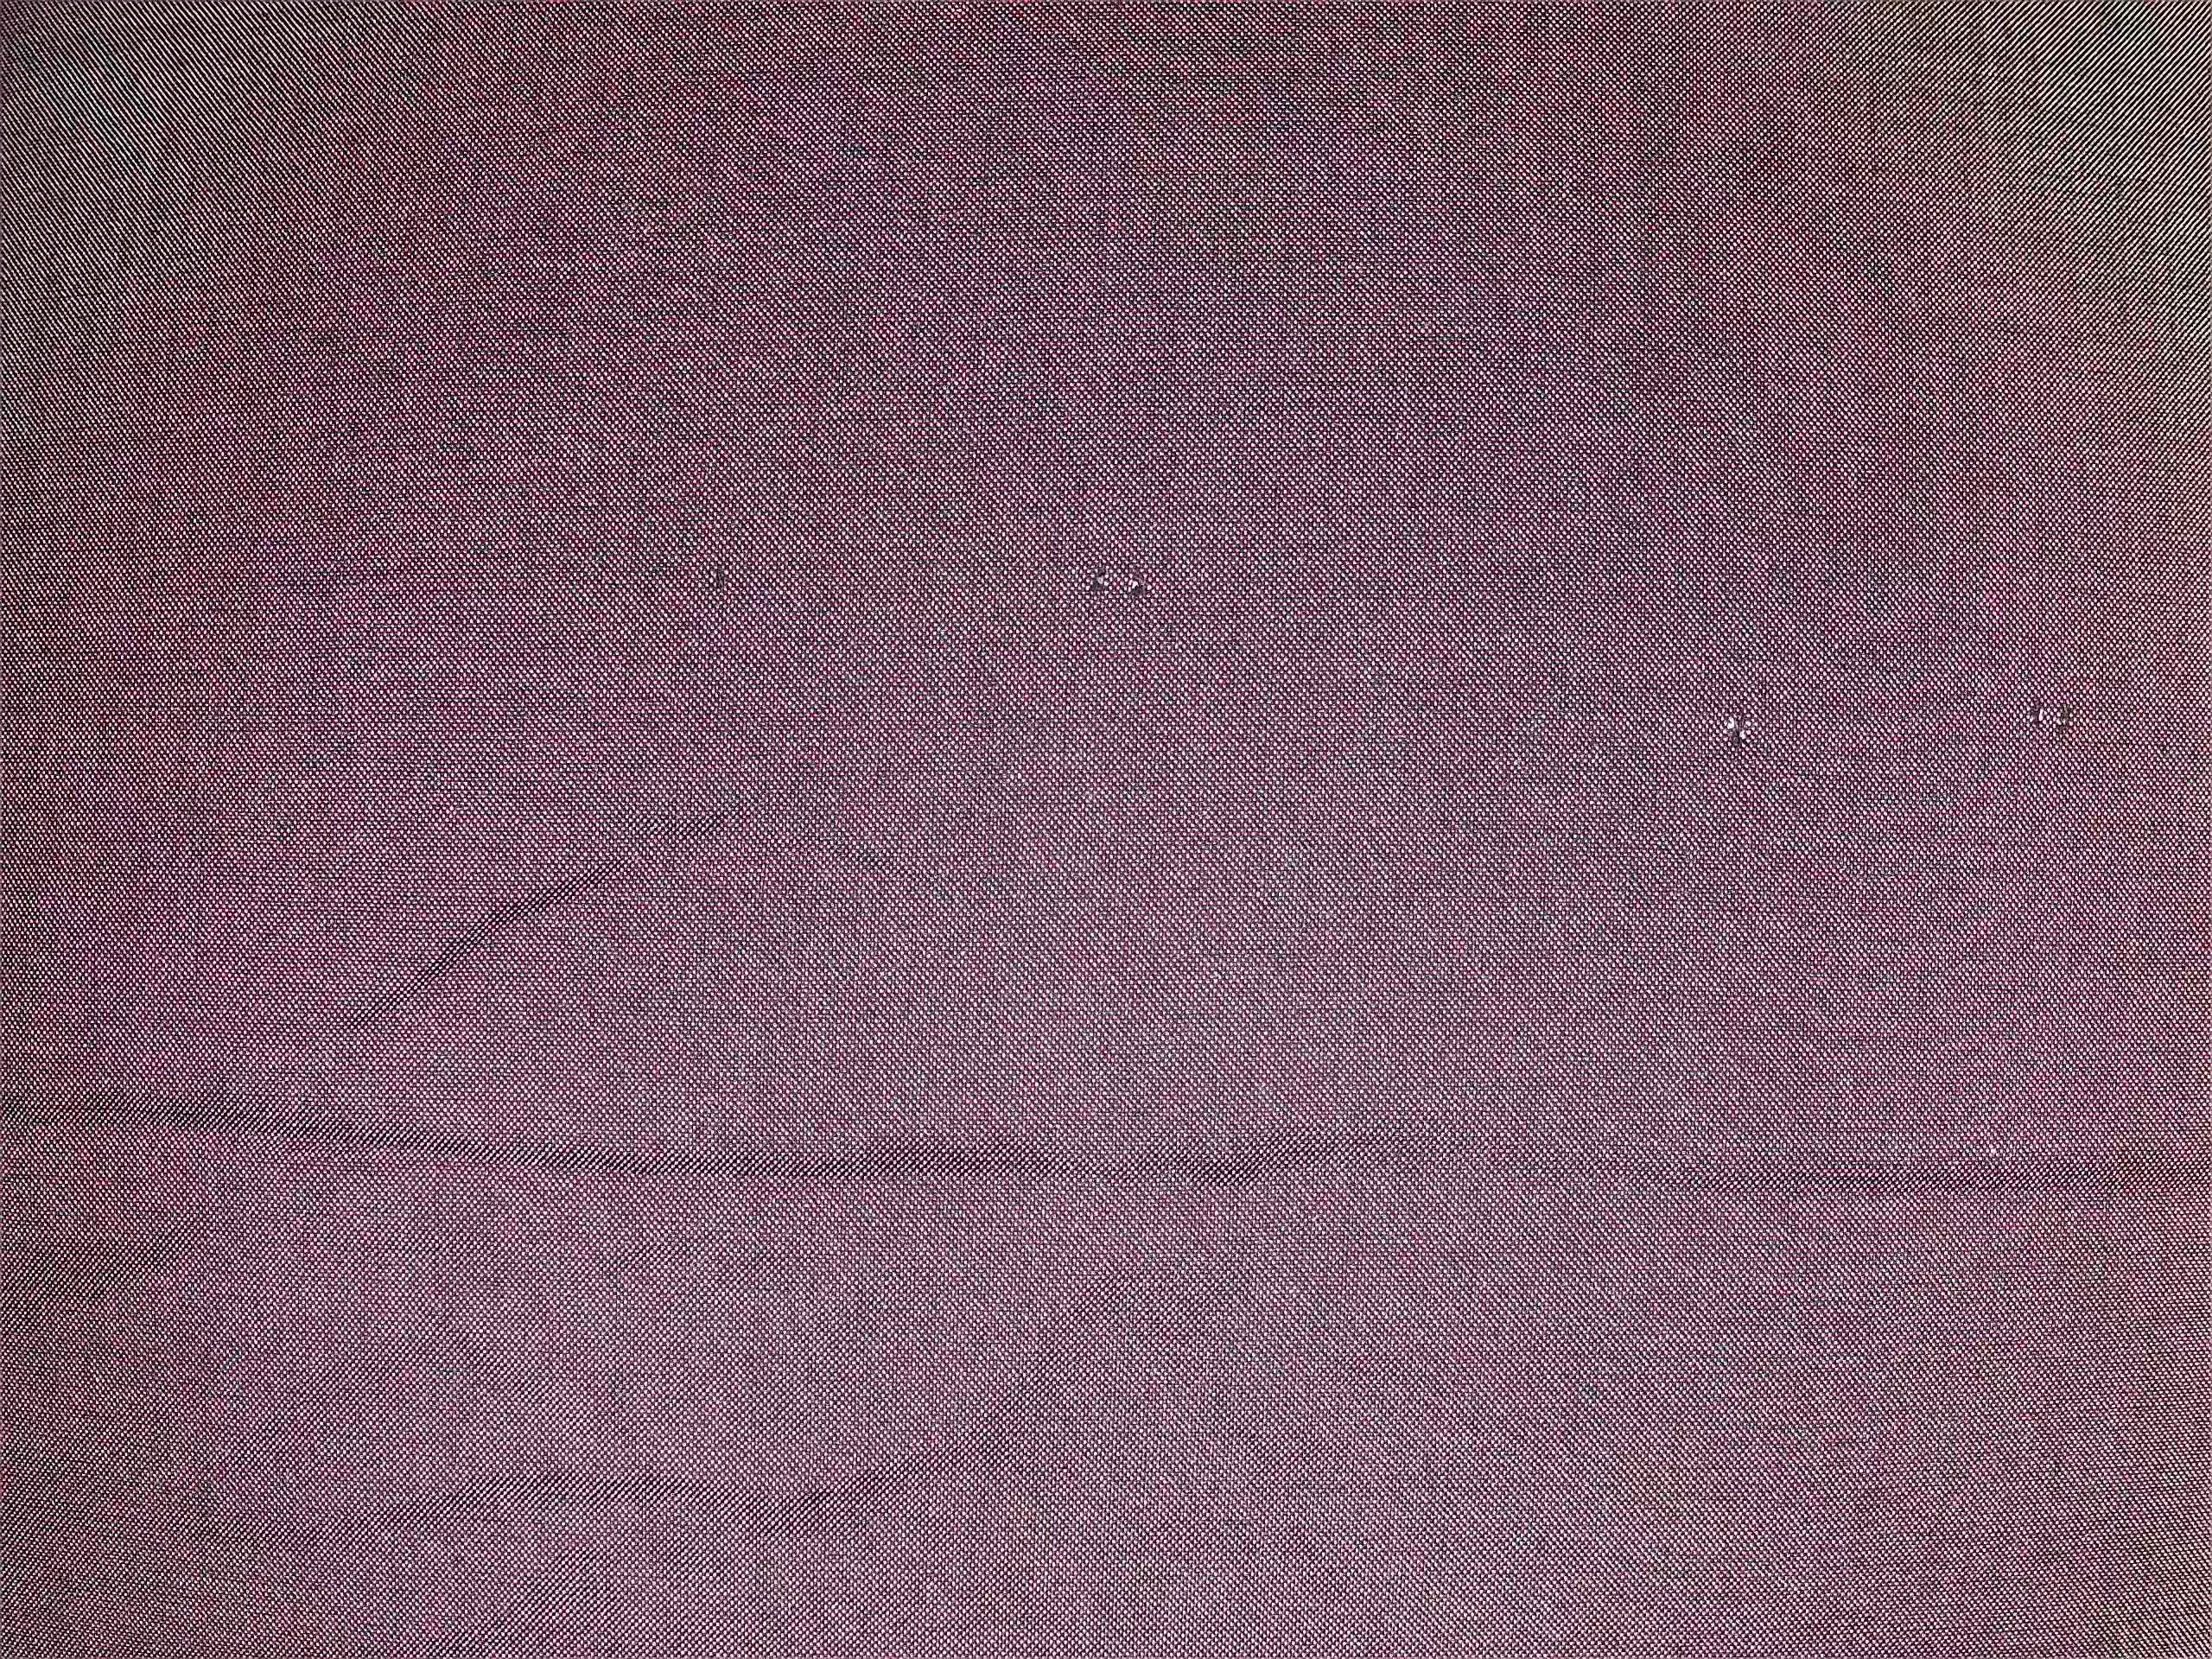rubbing-hole: (1068, 537, 1179, 631), (674, 533, 756, 622), (2008, 676, 2088, 755), (1702, 687, 1773, 763)
